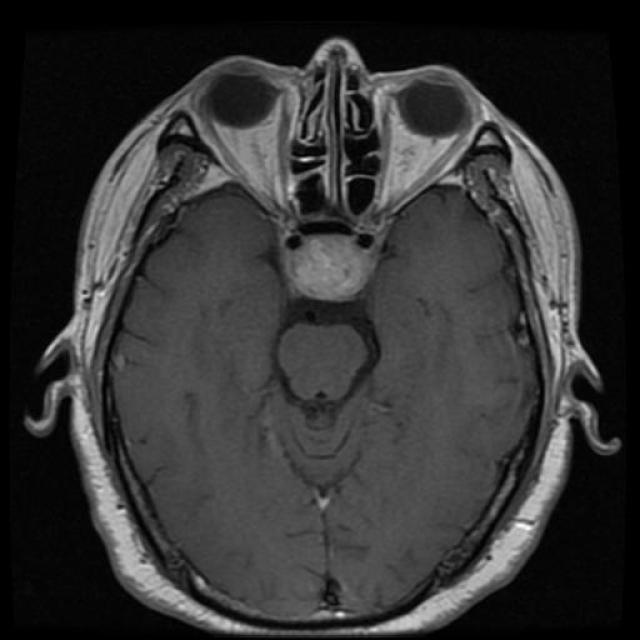pituitary: (274, 224, 388, 306)
